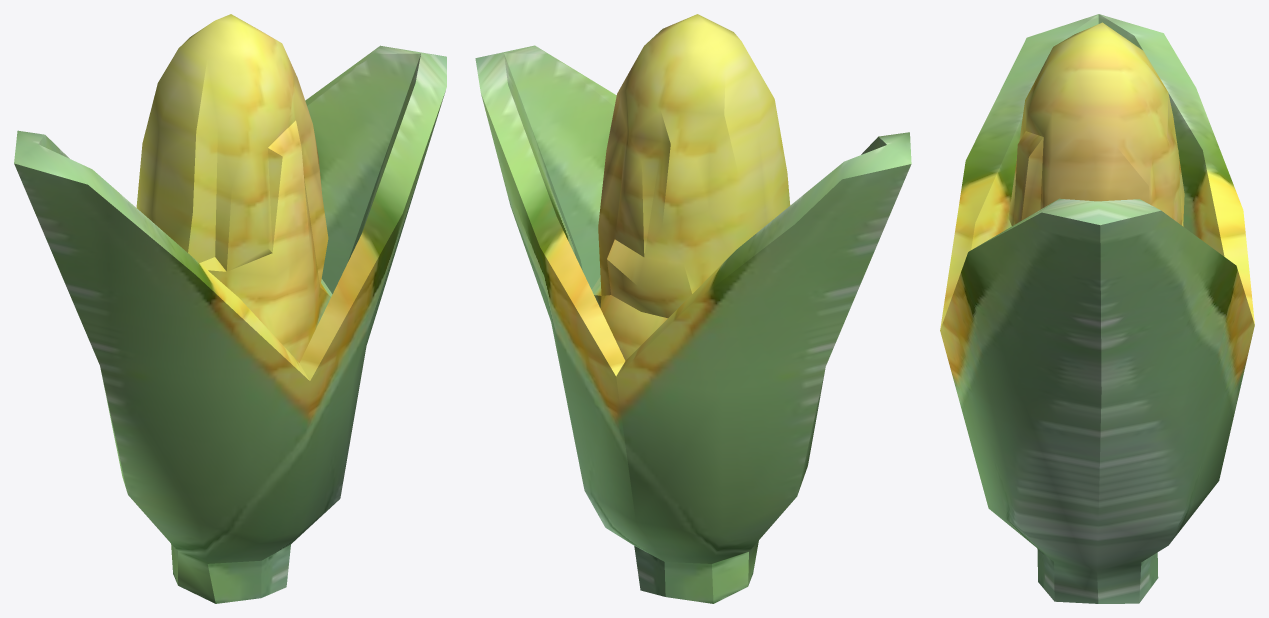
3 views of the same model, side by side, from view 1: azimuth 30°, elevation 25°; view 2: azimuth 150°, elevation 25°; view 3: azimuth 270°, elevation 25° (orthographic).
Visible parts, largest first — view 1: corn; view 2: corn; view 3: corn.
Part boxes in pixels (x1,y1,x2,y2): corn: (14,14,446,603); corn: (475,14,911,603); corn: (940,14,1254,603).
Size of the model in its own units: 0.1763 by 0.2185 by 0.1116.
1 material, 1 textured.
